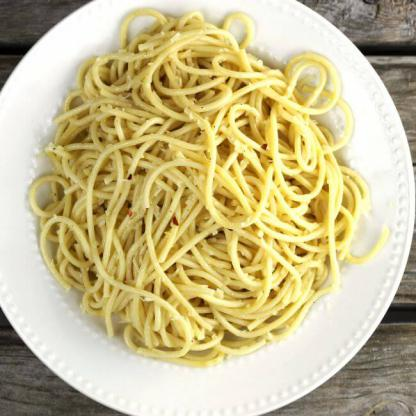Noodles: (30, 9, 393, 369)
